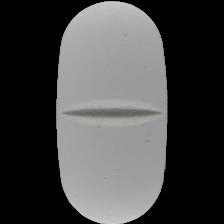68788-9486: (0, 0, 224, 224)
